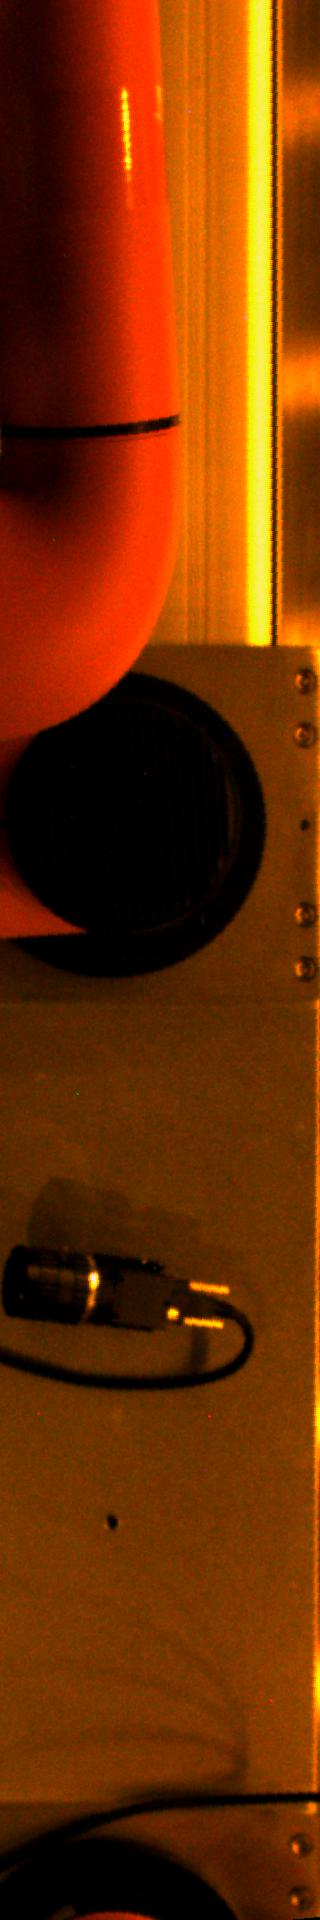keyPoint_2: (97, 1506, 128, 1536)
